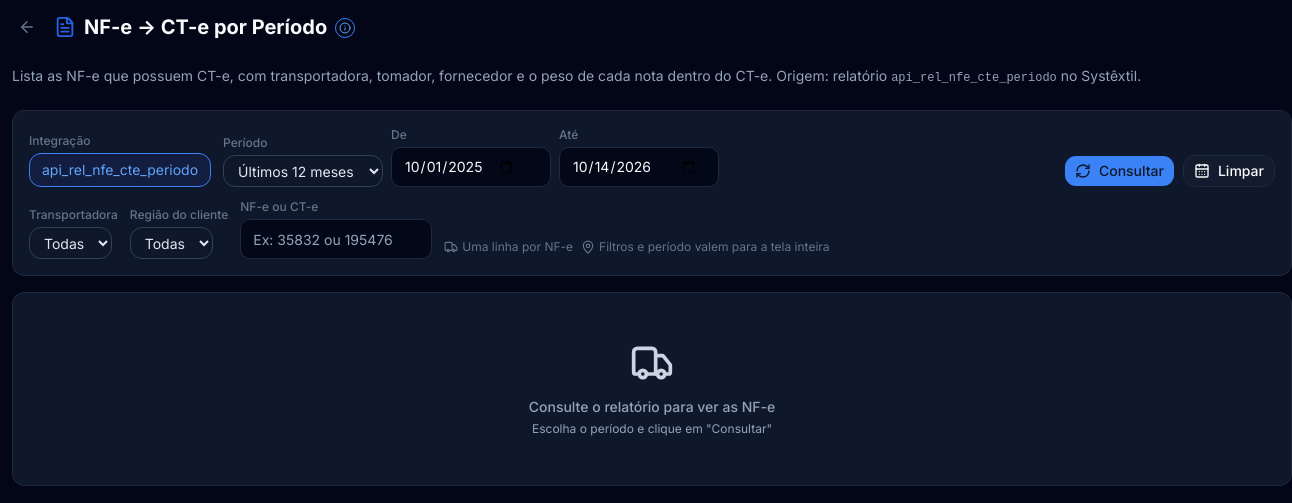
Test: NfeCtePage › avisa quando a API não retorna NF-e
Expected: the button "api_rel_nfe_cte_periodo" is shown, [29, 153, 211, 187]
Click the button "Consultar": {"x": 1119, "y": 171} [1064, 155, 1175, 187]
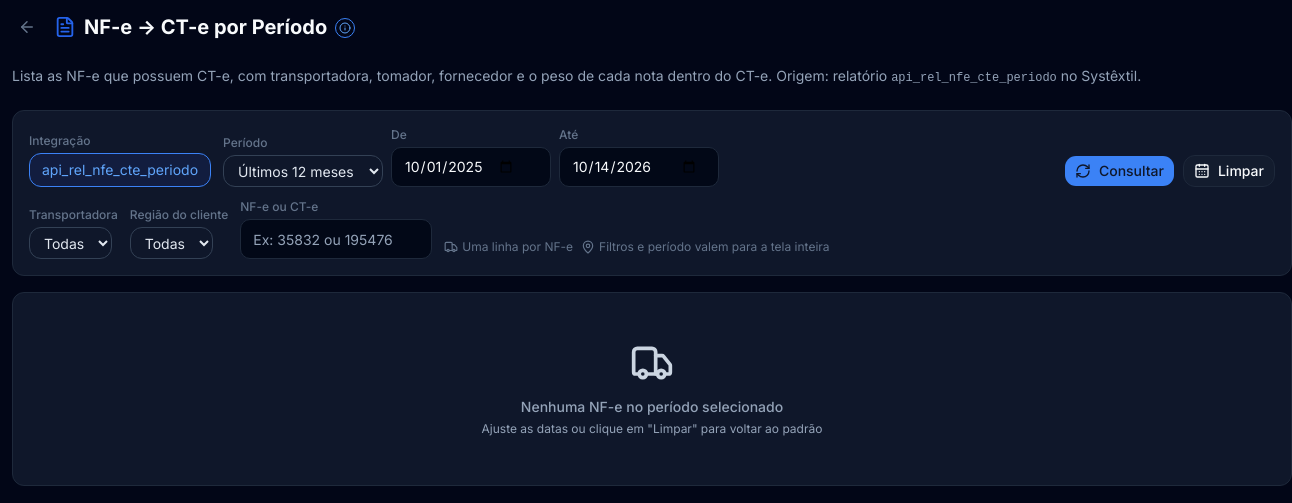
Expected: the text "Nenhuma NF-e no período selecionado" is shown, [521, 398, 783, 415]
